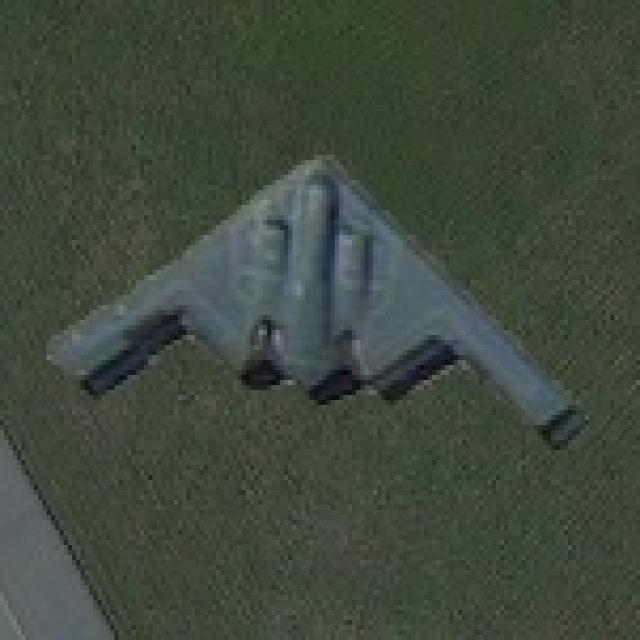B-2_TopDown: (39, 135, 594, 465)
